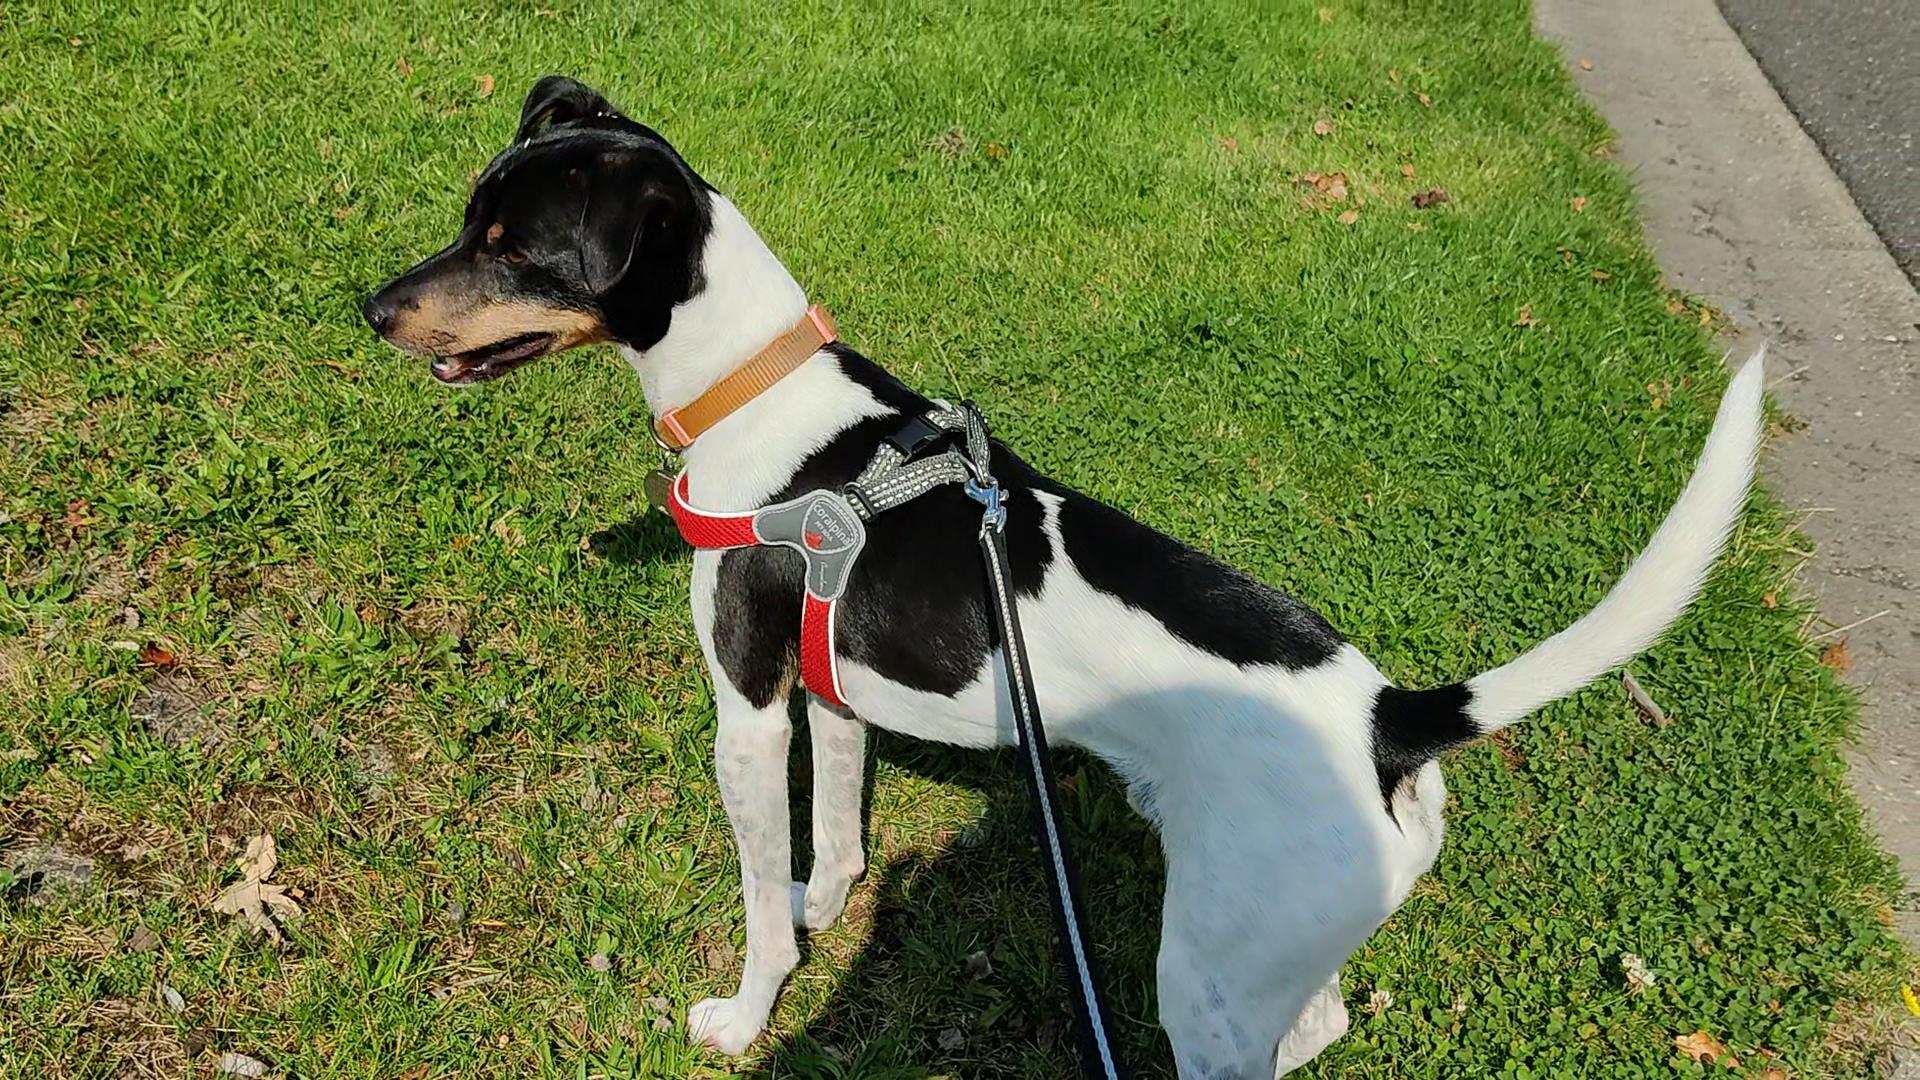Dog: (352, 67, 1774, 1079)
